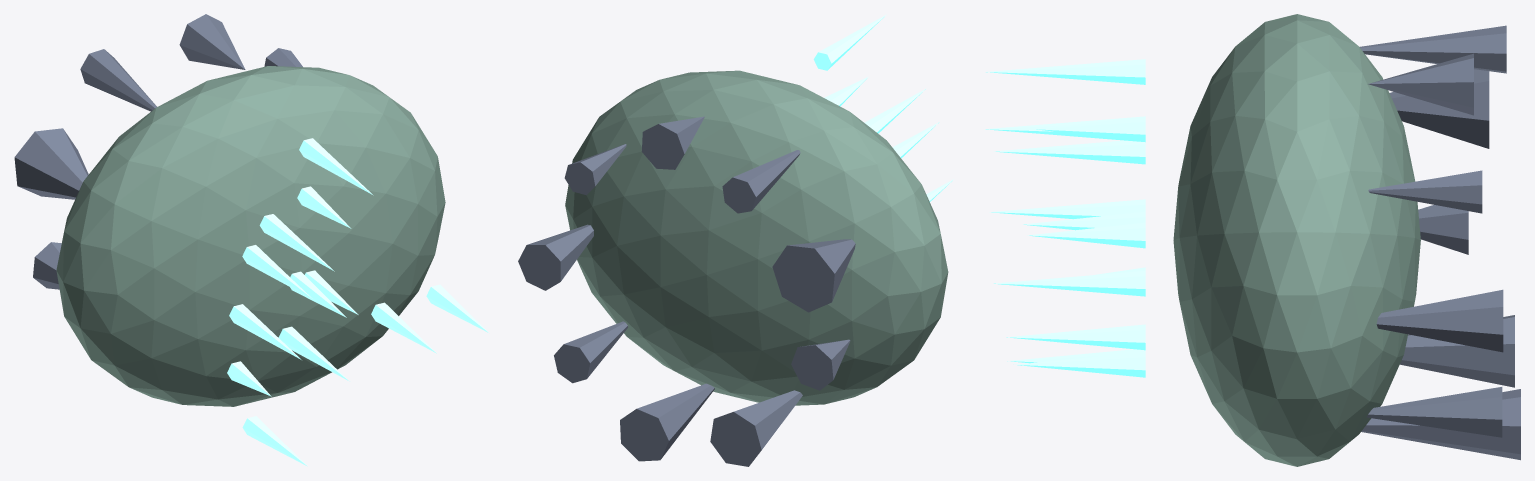
The model's file is 08_Floating_Island_Luminous.glb.
3 views of the same model, side by side, from view 1: azimuth 30°, elevation 25°; view 2: azimuth 150°, elevation 25°; view 3: azimuth 270°, elevation 25° (orthographic). The views are drawn at different scales.
Visible parts, largest first — view 1: 08_Floating_Island_Luminous_00, 08_Floating_Island_Luminous_05, 08_Floating_Island_Luminous_03, 08_Floating_Island_Luminous_04, 08_Floating_Island_Luminous_19, 08_Floating_Island_Luminous_14, 08_Floating_Island_Luminous_06, 08_Floating_Island_Luminous_21, 08_Floating_Island_Luminous_10, 08_Floating_Island_Luminous_11, 08_Floating_Island_Luminous_17, 08_Floating_Island_Luminous_15 (+6 smaller); view 2: 08_Floating_Island_Luminous_00, 08_Floating_Island_Luminous_05, 08_Floating_Island_Luminous_08, 08_Floating_Island_Luminous_07, 08_Floating_Island_Luminous_01, 08_Floating_Island_Luminous_09, 08_Floating_Island_Luminous_04, 08_Floating_Island_Luminous_03, 08_Floating_Island_Luminous_06, 08_Floating_Island_Luminous_02, 08_Floating_Island_Luminous_14, 08_Floating_Island_Luminous_19; view 3: 08_Floating_Island_Luminous_00, 08_Floating_Island_Luminous_01, 08_Floating_Island_Luminous_09, 08_Floating_Island_Luminous_07, 08_Floating_Island_Luminous_04, 08_Floating_Island_Luminous_08, 08_Floating_Island_Luminous_05, 08_Floating_Island_Luminous_03, 08_Floating_Island_Luminous_02, 08_Floating_Island_Luminous_14, 08_Floating_Island_Luminous_11, 08_Floating_Island_Luminous_10 (+9 smaller).
Part boxes in pixels (x1=…): 08_Floating_Island_Luminous_00: x1=56, y1=66, x2=445, y2=406; 08_Floating_Island_Luminous_05: x1=14, y1=128, x2=88, y2=199; 08_Floating_Island_Luminous_03: x1=179, y1=14, x2=245, y2=69; 08_Floating_Island_Luminous_04: x1=80, y1=49, x2=156, y2=111; 08_Floating_Island_Luminous_19: x1=259, y1=214, x2=334, y2=271; 08_Floating_Island_Luminous_14: x1=299, y1=138, x2=373, y2=195; 08_Floating_Island_Luminous_06: x1=33, y1=242, x2=61, y2=289; 08_Floating_Island_Luminous_21: x1=229, y1=304, x2=301, y2=359; 08_Floating_Island_Luminous_10: x1=242, y1=245, x2=312, y2=299; 08_Floating_Island_Luminous_11: x1=278, y1=326, x2=349, y2=381; 08_Floating_Island_Luminous_17: x1=371, y1=302, x2=436, y2=353; 08_Floating_Island_Luminous_15: x1=242, y1=416, x2=307, y2=466; 08_Floating_Island_Luminous_00: x1=565, y1=70, x2=948, y2=405; 08_Floating_Island_Luminous_05: x1=772, y1=239, x2=855, y2=312; 08_Floating_Island_Luminous_08: x1=620, y1=383, x2=714, y2=461; 08_Floating_Island_Luminous_07: x1=710, y1=390, x2=802, y2=466; 08_Floating_Island_Luminous_01: x1=518, y1=224, x2=593, y2=290; 08_Floating_Island_Luminous_09: x1=554, y1=321, x2=627, y2=383; 08_Floating_Island_Luminous_04: x1=722, y1=150, x2=800, y2=213; 08_Floating_Island_Luminous_03: x1=641, y1=116, x2=704, y2=169; 08_Floating_Island_Luminous_06: x1=791, y1=339, x2=850, y2=390; 08_Floating_Island_Luminous_02: x1=564, y1=144, x2=626, y2=195; 08_Floating_Island_Luminous_14: x1=813, y1=14, x2=886, y2=70; 08_Floating_Island_Luminous_19: x1=864, y1=88, x2=926, y2=133; 08_Floating_Island_Luminous_00: x1=1173, y1=14, x2=1420, y2=466; 08_Floating_Island_Luminous_01: x1=1376, y1=289, x2=1503, y2=352; 08_Floating_Island_Luminous_09: x1=1366, y1=387, x2=1502, y2=437; 08_Floating_Island_Luminous_07: x1=1400, y1=315, x2=1514, y2=387; 08_Floating_Island_Luminous_04: x1=1360, y1=25, x2=1506, y2=73; 08_Floating_Island_Luminous_08: x1=1361, y1=389, x2=1520, y2=460; 08_Floating_Island_Luminous_05: x1=1389, y1=69, x2=1489, y2=148; 08_Floating_Island_Luminous_03: x1=1368, y1=53, x2=1473, y2=115; 08_Floating_Island_Luminous_02: x1=1368, y1=170, x2=1482, y2=213; 08_Floating_Island_Luminous_14: x1=986, y1=59, x2=1145, y2=84; 08_Floating_Island_Luminous_11: x1=994, y1=270, x2=1145, y2=296; 08_Floating_Island_Luminous_10: x1=993, y1=140, x2=1145, y2=164.
Size of the model in its own units: 9 by 7.53 by 9.13.
